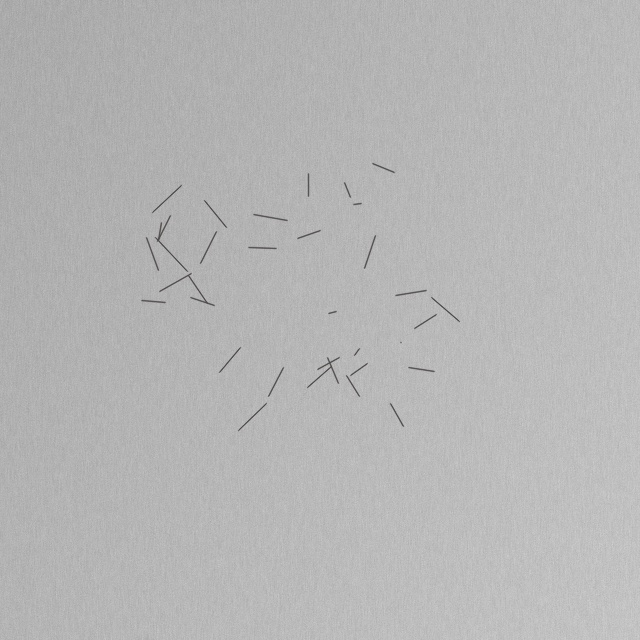silk spot: (70, 90, 520, 510)
